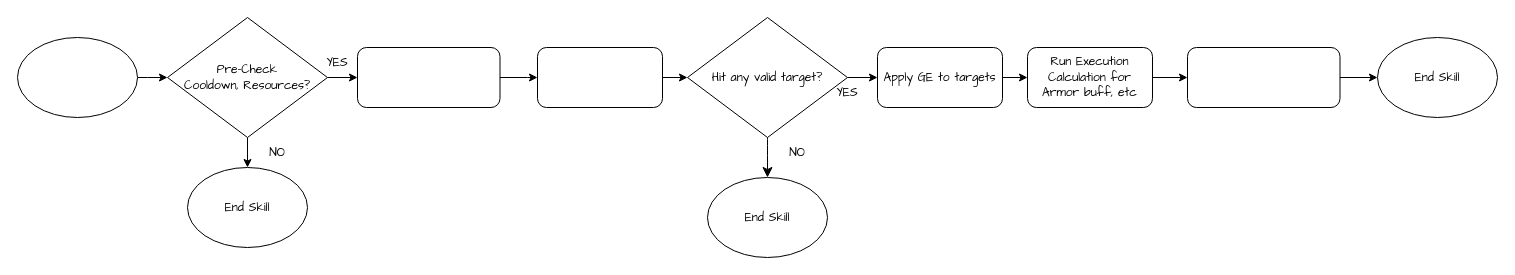
This 1515x275 diagram has some shape labels left out. Here are the shapes that lost their labels. From the top down, the centre of each, then its label:
point (77, 77): Skill Activate
point (428, 77): Calculate Skill Effective Range Based on Mouse Position
point (599, 77): Play Montage
point (1263, 77): Attribute Post-Process (Clamp value,broadcast)
